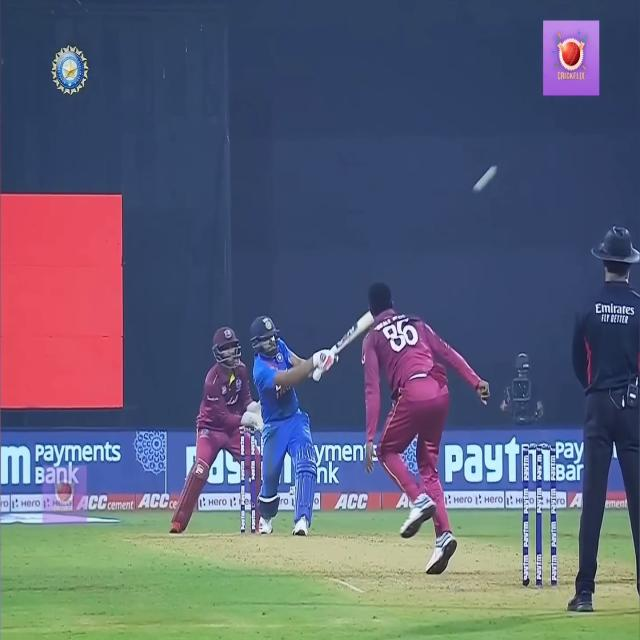partially_visible: (443, 434, 553, 490)
